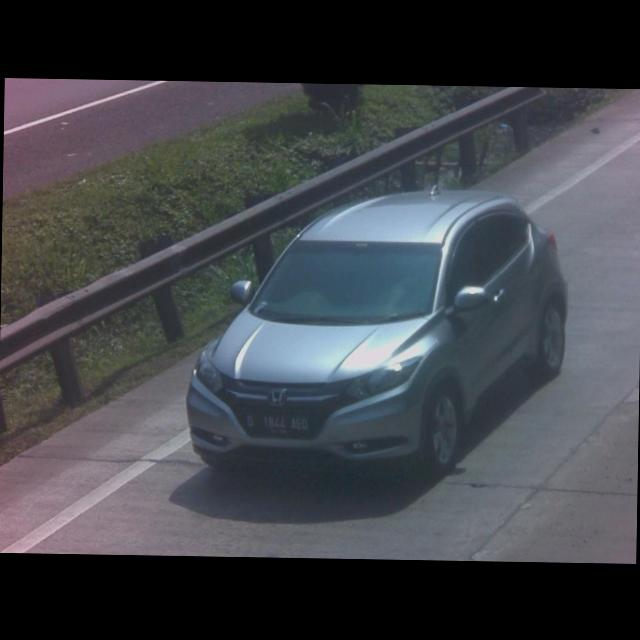plate: (242, 409, 312, 435)
